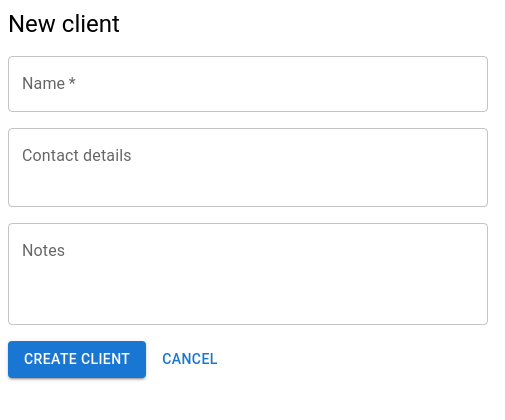
Test: ClientCreatePage › blocks submission client-side when the required name is empty
The image size is (505, 420).
Click the button "Create client" at (77, 359), box [8,341,146,378]
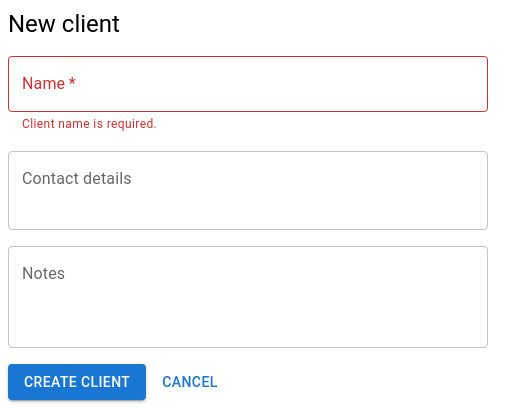
expect the text "Client name is required." is shown: met, box [22,117,157,131]
